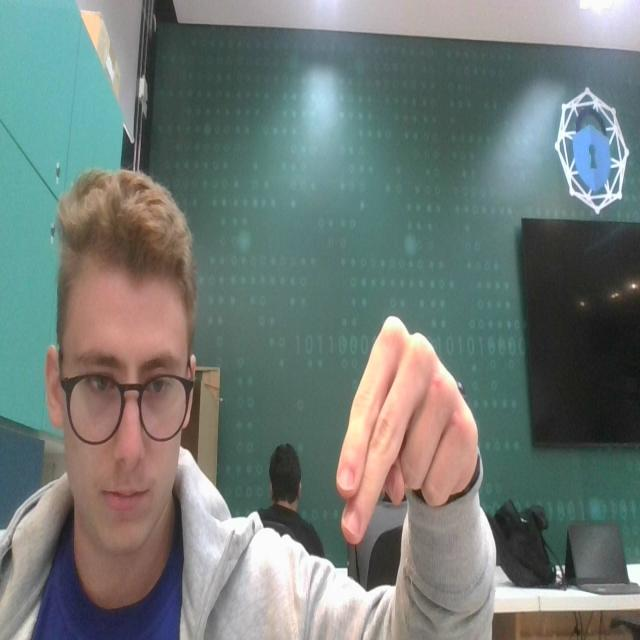N: (316, 295, 492, 565)
